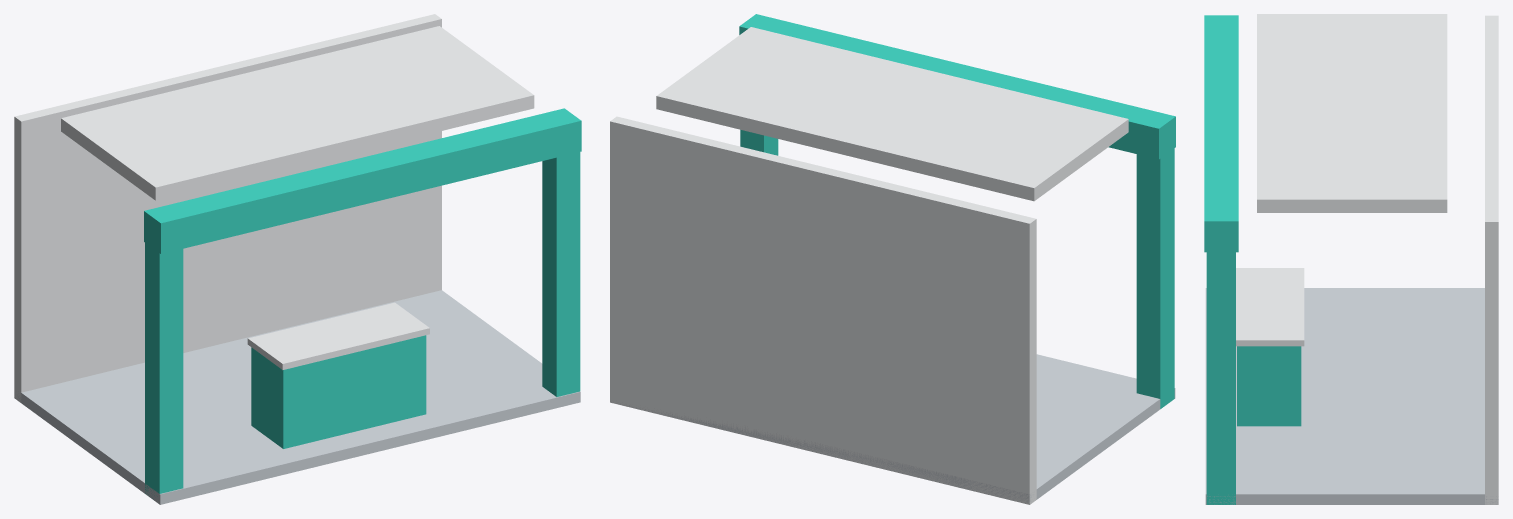
3 renders of one model, left to right at view 1: azimuth 30°, elevation 25°; view 2: azimuth 150°, elevation 25°; view 3: azimuth 270°, elevation 25°, orthographic.
Parts seen in each view (by area): view 1: Exhibition Booth Concept; view 2: Exhibition Booth Concept; view 3: Exhibition Booth Concept.
Boxes of the visible parts, x1,y1,x2,y2 form: Exhibition Booth Concept: [14, 14, 581, 504]; Exhibition Booth Concept: [610, 14, 1175, 504]; Exhibition Booth Concept: [1204, 14, 1498, 504].
Bounding box in the file's own units: 5 × 3.34 × 3.01.
